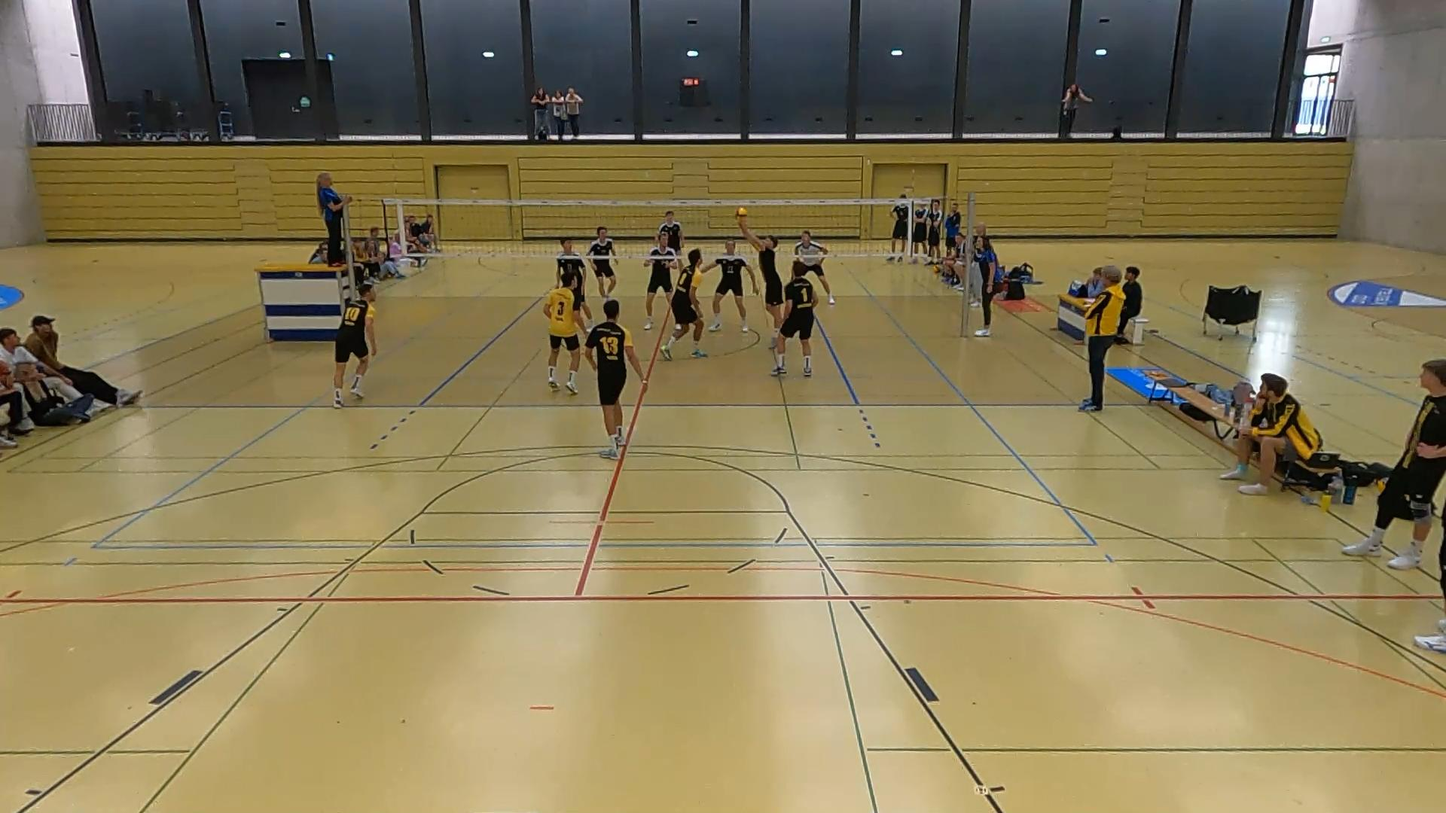Player: (586, 300, 647, 458), (333, 284, 376, 407), (703, 239, 758, 332), (772, 260, 816, 376), (661, 249, 706, 360), (544, 271, 581, 394), (644, 231, 678, 329), (557, 238, 592, 331), (795, 231, 834, 304), (587, 226, 615, 303), (658, 210, 683, 254)
Set: (732, 210, 788, 357)
ball: (732, 205, 748, 225)
